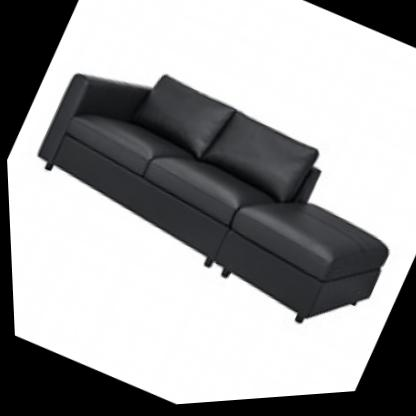Sofa: (1, 3, 416, 379)
